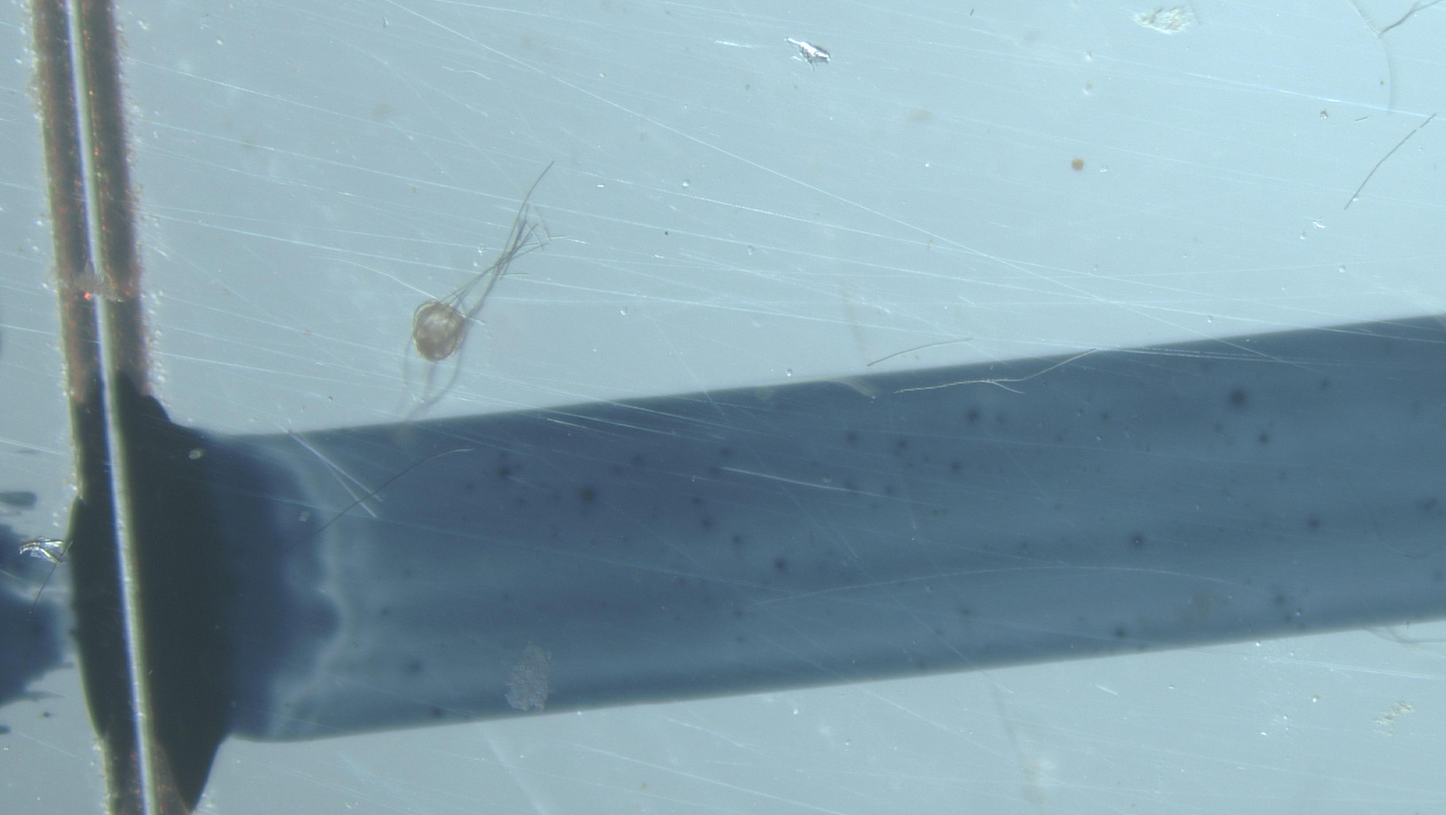live: (412, 301, 468, 362)
